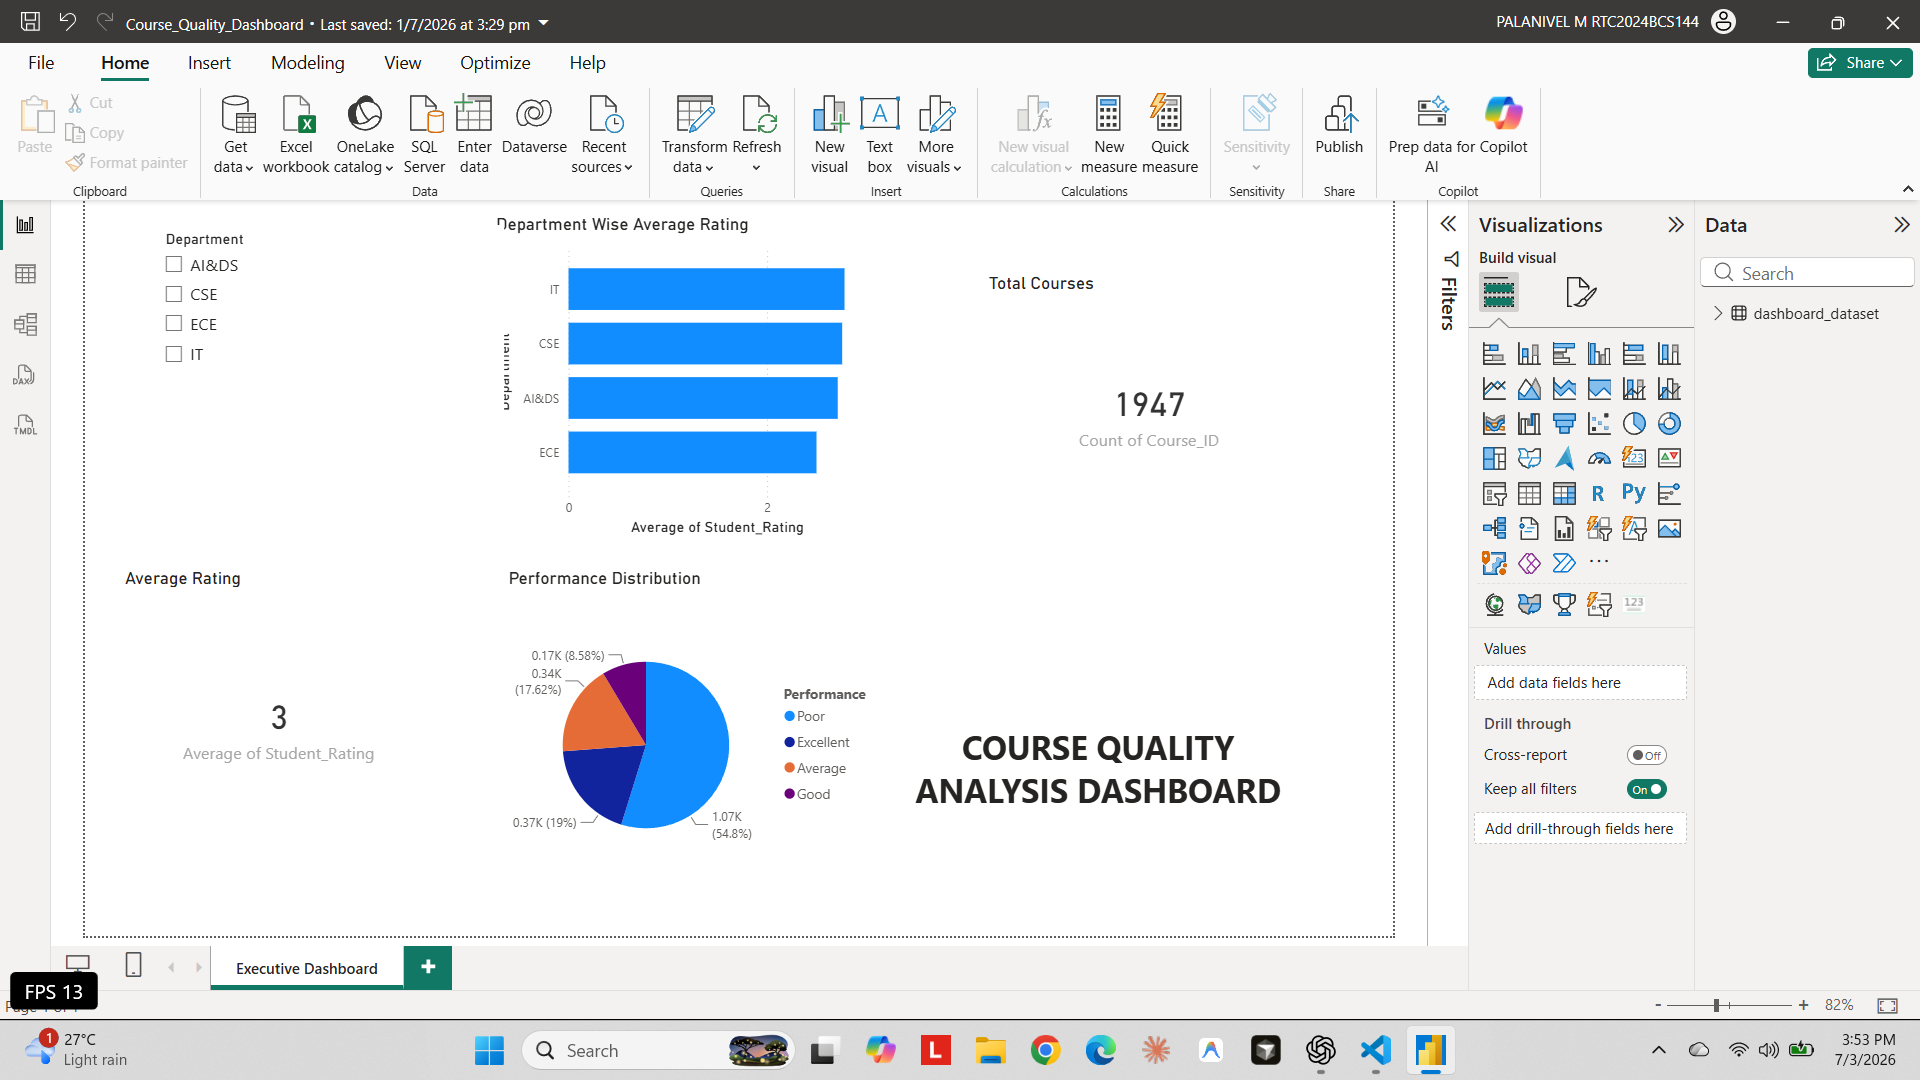

The dashboard page shown, as its layout file describes it:
{"tool":"powerbi","page":{"name":"Executive Dashboard","canvas":[1280,720],"ordinal":0},"visuals":[{"type":"advanceCardE03760C5AB684758B56AA29F9E6C257B","title":"Total Courses","fields":{"mainMeasure":["CountNonNull(dashboard_dataset.Course_ID)"]},"box":[831.2,80,311.2,301.2],"z":0},{"type":"advanceCardE03760C5AB684758B56AA29F9E6C257B","title":"Average Rating","fields":{"mainMeasure":["Avg(dashboard_dataset.Student_Rating)"]},"box":[34.2,359.5,311.8,297.1],"z":1000},{"type":"clusteredBarChart","title":"Department Wise Average Rating","fields":{"Category":["dashboard_dataset.Department"],"Y":["Avg(dashboard_dataset.Student_Rating)"]},"box":[397.5,13.8,376.2,320],"z":2000},{"type":"pieChart","title":"Performance Distribution","fields":{"Category":["dashboard_dataset.Performance"],"Y":["CountNonNull(dashboard_dataset.Course_ID)"]},"box":[410,360,375.7,328.6],"z":3000},{"type":"slicer","fields":{"Values":["dashboard_dataset.Department"]},"box":[66.2,25,343.8,335],"z":4000},{"type":"textbox","box":[798.8,508.8,385,131.2],"z":5000}]}

Visuals, with their boxes on the page's 1280x720 design canvas (x1, y1, x2, y2). These are canvas units, not pixel positions in the 1920x1080 screenshot, which may show the page scaled, cropped or inside an application window:
"Total Courses" advanceCardE03760C5AB684758B56AA29F9E6C257B: l=831, t=80, r=1142, b=381
"Average Rating" advanceCardE03760C5AB684758B56AA29F9E6C257B: l=34, t=360, r=346, b=657
"Department Wise Average Rating" clusteredBarChart: l=398, t=14, r=774, b=334
"Performance Distribution" pieChart: l=410, t=360, r=786, b=689
slicer - dashboard_dataset.Department: l=66, t=25, r=410, b=360
textbox: l=799, t=509, r=1184, b=640
